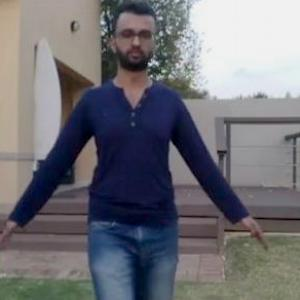land: (9, 41, 234, 299)
